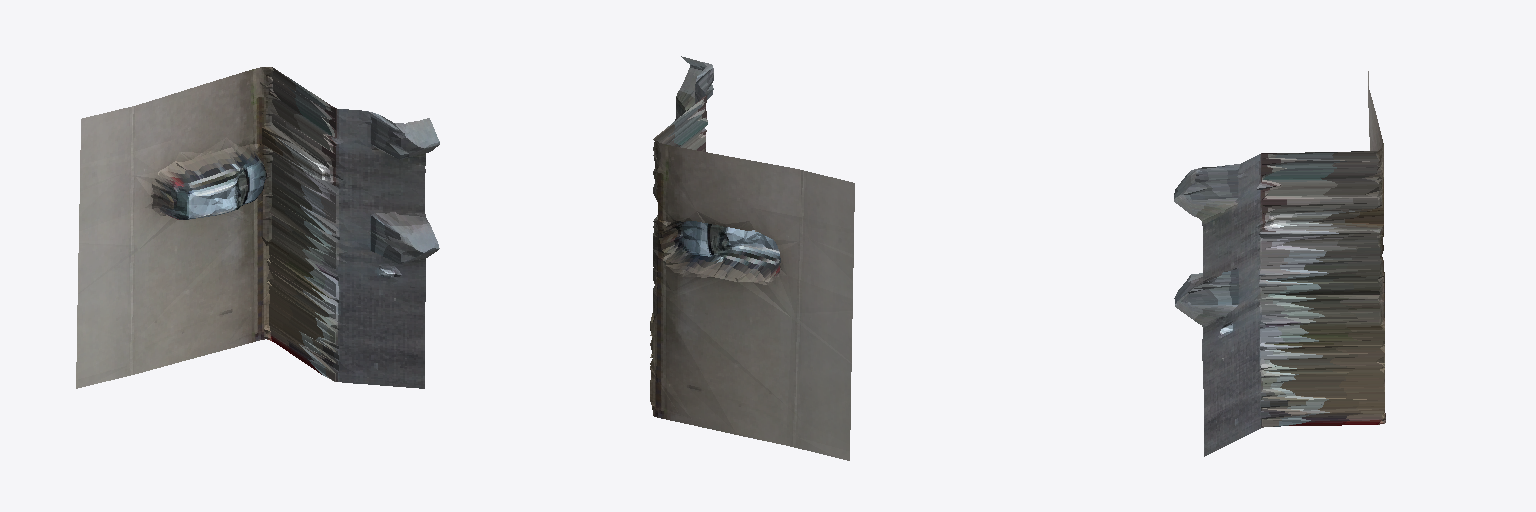
3 renders of one model, left to right at view 1: azimuth 30°, elevation 25°; view 2: azimuth 150°, elevation 25°; view 3: azimuth 270°, elevation 25°, orthographic.
Visible parts, largest first — view 1: grp1; view 2: grp1; view 3: grp1.
Part boxes in pixels (x1,y1,x2,y2): grp1: (76,67,439,388); grp1: (650,56,854,460); grp1: (1174,71,1385,456).
Size of the model in its own units: 10 by 10 by 6.99.
1 materials, 1 textured.